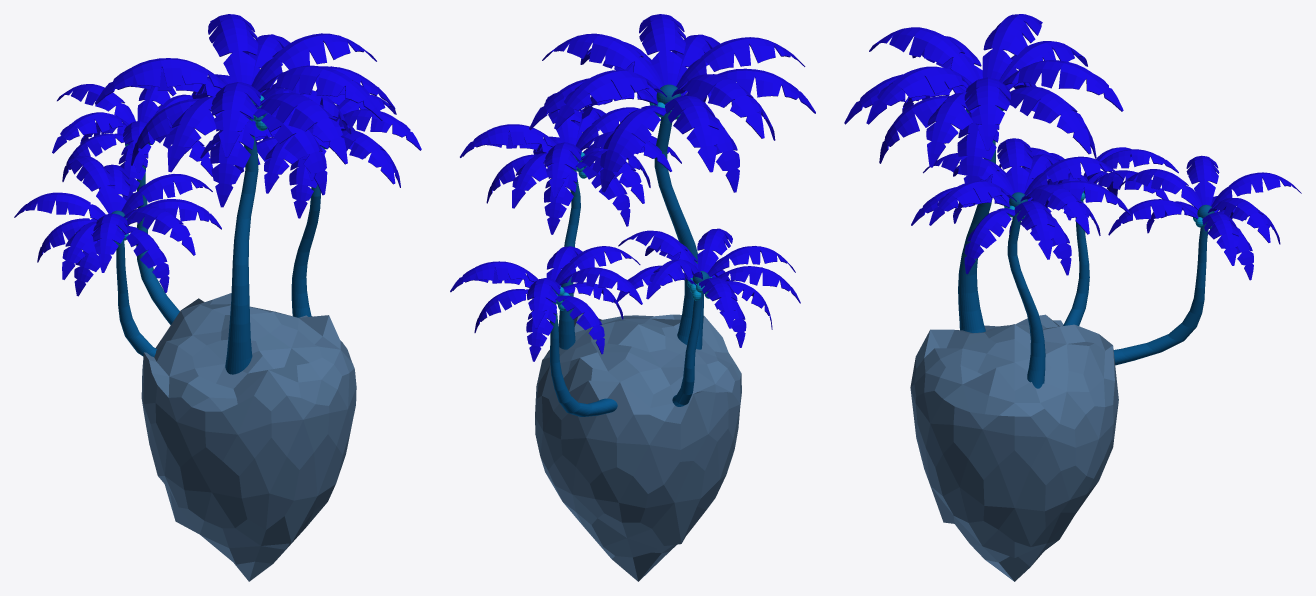
File: island Demure.fbx
3 renders of one model, left to right at view 1: azimuth 30°, elevation 25°; view 2: azimuth 150°, elevation 25°; view 3: azimuth 270°, elevation 25°, orthographic. The views are drawn at different scales.
Parts seen in each view (by area): view 1: Icosphere; view 2: Icosphere; view 3: Icosphere.
Boxes of the visible parts, box(x1,y1,x2,y2) form: Icosphere: box(14, 14, 421, 581); Icosphere: box(450, 14, 815, 581); Icosphere: box(844, 14, 1301, 581).
Size of the model in its own units: 699 by 1059 by 840.
